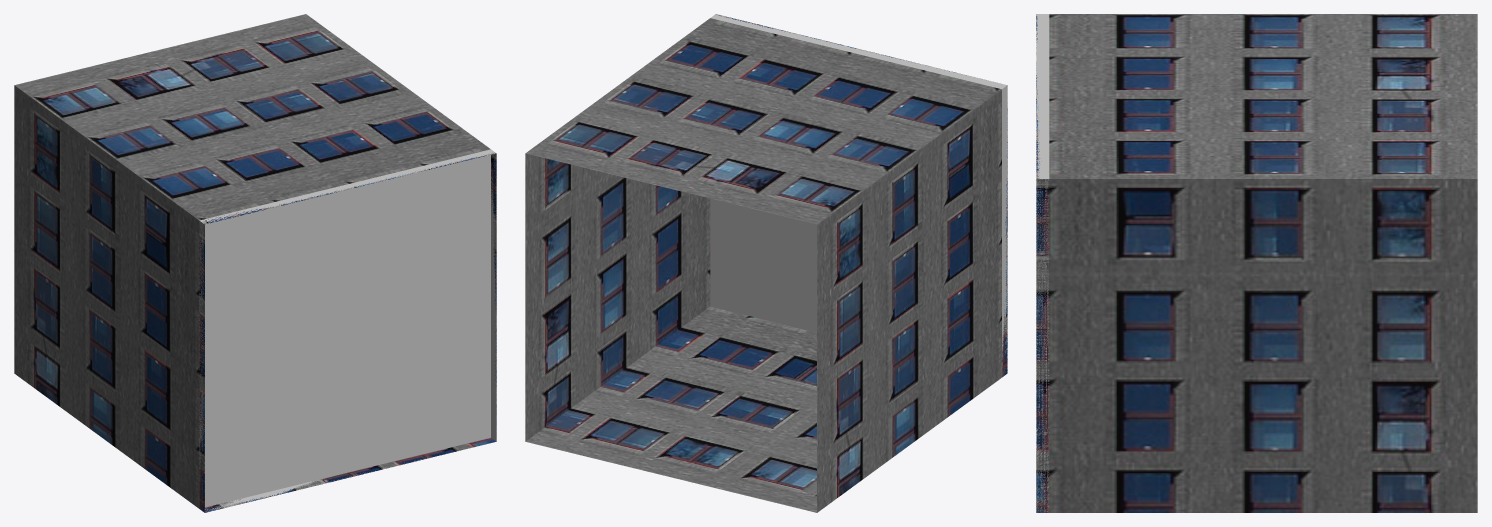
Rendered from bpbuilding1_wtf.obj.
The picture shows the model from 3 angles, left to right: view 1: azimuth 30°, elevation 25°; view 2: azimuth 150°, elevation 25°; view 3: azimuth 270°, elevation 25°; orthographic projection. The views are drawn at different scales.
Parts seen in each view (by area): view 1: group4, group3, group5; view 2: group4, group3, group5; view 3: group4, group5.
Part boxes in pixels (x1,y1,x2,y2): group4: (14,14,496,512); group3: (205,155,490,507); group5: (199,149,496,512); group4: (525,14,1007,512); group3: (710,198,816,332); group5: (711,14,1007,374); group4: (1036,14,1477,512); group5: (1036,14,1049,512).
Bounding box in the file's own units: 584 × 551 × 660.
